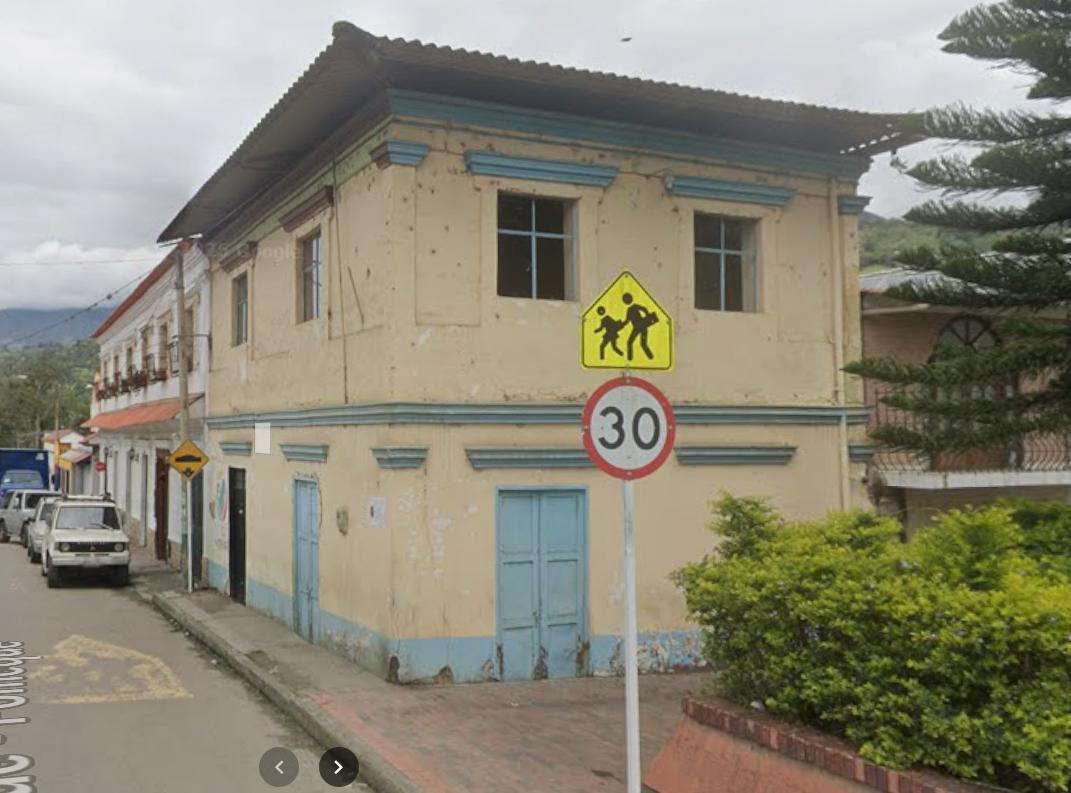casa: (161, 23, 895, 681), (83, 240, 211, 584)
